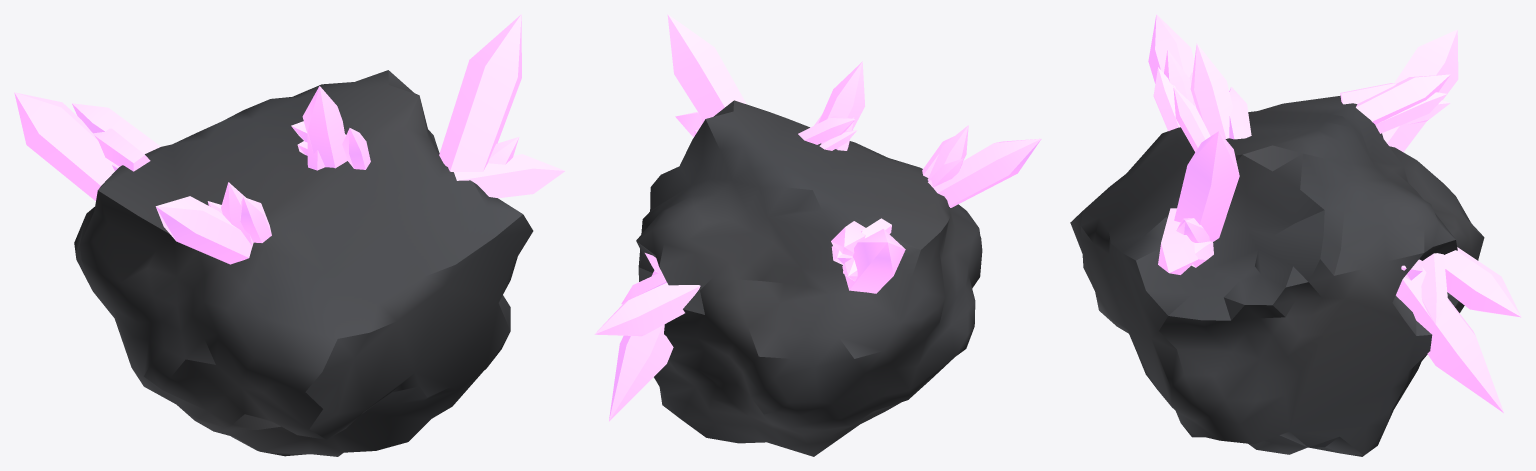
The model's file is asteroid_crystal_02.glb.
The picture shows the model from 3 angles, left to right: view 1: azimuth 30°, elevation 25°; view 2: azimuth 150°, elevation 25°; view 3: azimuth 270°, elevation 25°; orthographic projection. The views are drawn at different scales.
Visible parts, largest first — view 1: asteroid_crystal_02; view 2: asteroid_crystal_02; view 3: asteroid_crystal_02.
Part boxes in pixels (x1,y1,x2,y2): asteroid_crystal_02: [14, 14, 564, 456]; asteroid_crystal_02: [594, 14, 1041, 456]; asteroid_crystal_02: [1070, 14, 1521, 456].
Size of the model in its own units: 2.53 by 2.45 by 2.51.
